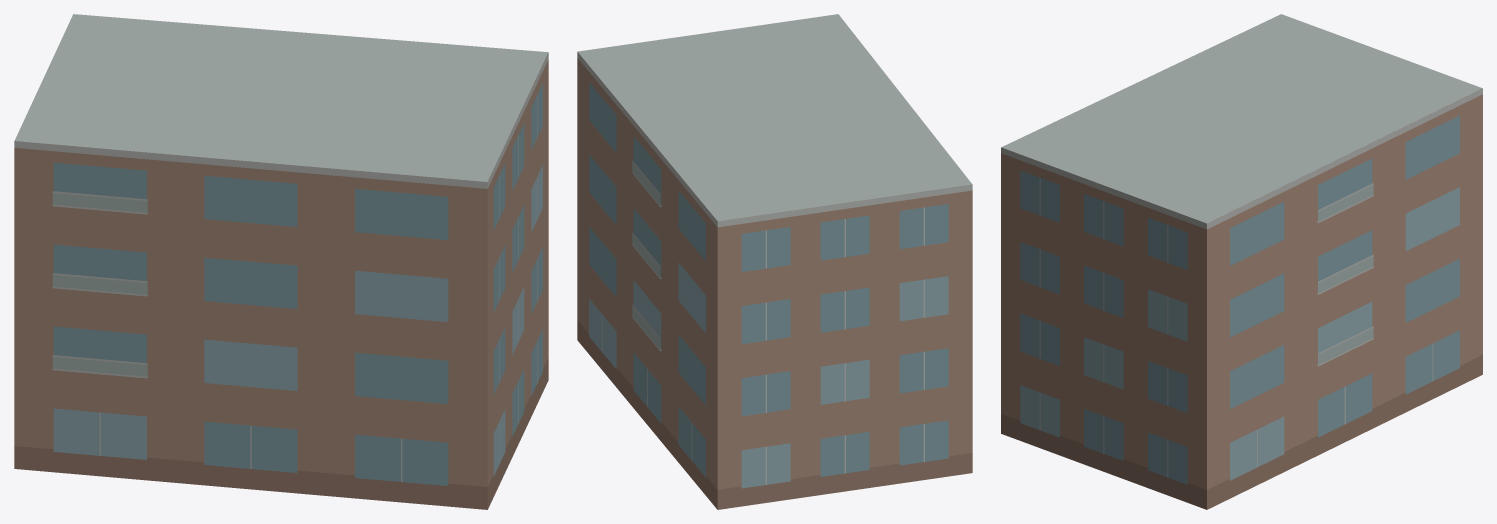
File: survey-upis-32523863.glb
3 renders of one model, left to right at view 1: azimuth 30°, elevation 25°; view 2: azimuth 150°, elevation 25°; view 3: azimuth 270°, elevation 25°, orthographic. The views are drawn at different scales.
Visible parts, largest first — view 1: survey-upis-32523863.tmp; view 2: survey-upis-32523863.tmp; view 3: survey-upis-32523863.tmp.
Part boxes in pixels (x1,y1,x2,y2): survey-upis-32523863.tmp: [14, 14, 548, 509]; survey-upis-32523863.tmp: [577, 14, 972, 509]; survey-upis-32523863.tmp: [1001, 14, 1482, 509].
Bounding box in the file's own units: 18.37 × 11.7 × 17.85.
